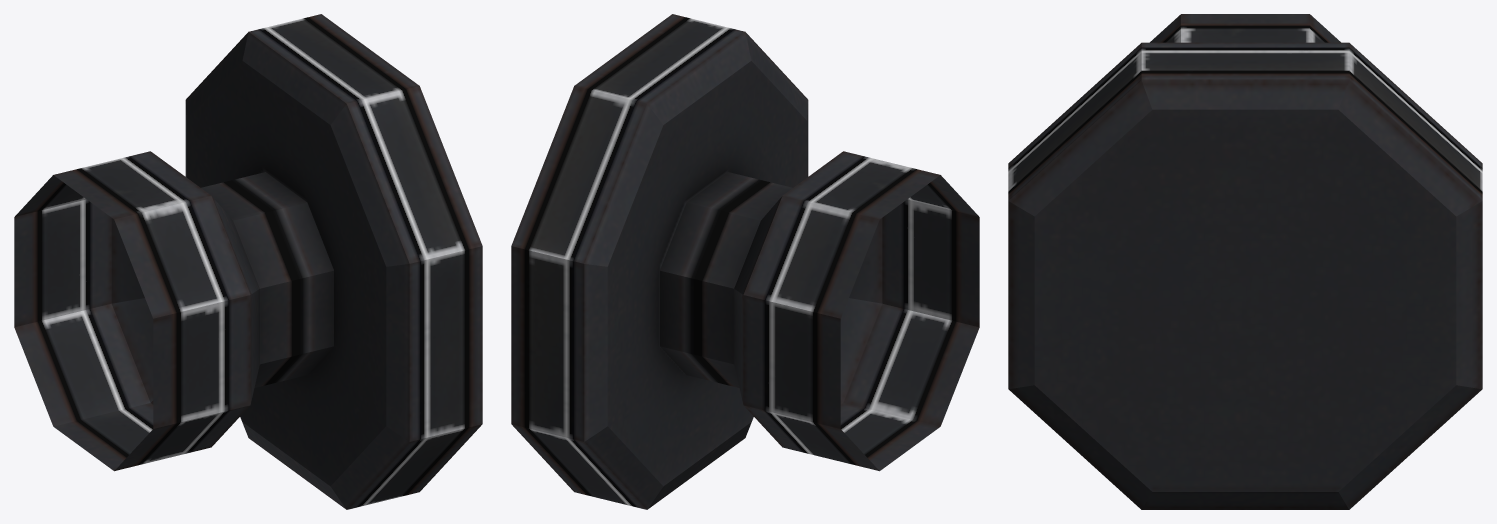
File: ManeuveringThrusterArray3Base.fbx
The picture shows the model from 3 angles, left to right: view 1: azimuth 30°, elevation 25°; view 2: azimuth 150°, elevation 25°; view 3: azimuth 270°, elevation 25°; orthographic projection. The views are drawn at different scales.
Visible parts, largest first — view 1: ManeuveringThrusterArray3Base; view 2: ManeuveringThrusterArray3Base; view 3: ManeuveringThrusterArray3Base.
Part boxes in pixels (x1,y1,x2,y2): ManeuveringThrusterArray3Base: (14,14,482,509); ManeuveringThrusterArray3Base: (511,14,979,509); ManeuveringThrusterArray3Base: (1008,14,1482,509).
Size of the model in its own units: 8.74 by 11.39 by 11.39.
